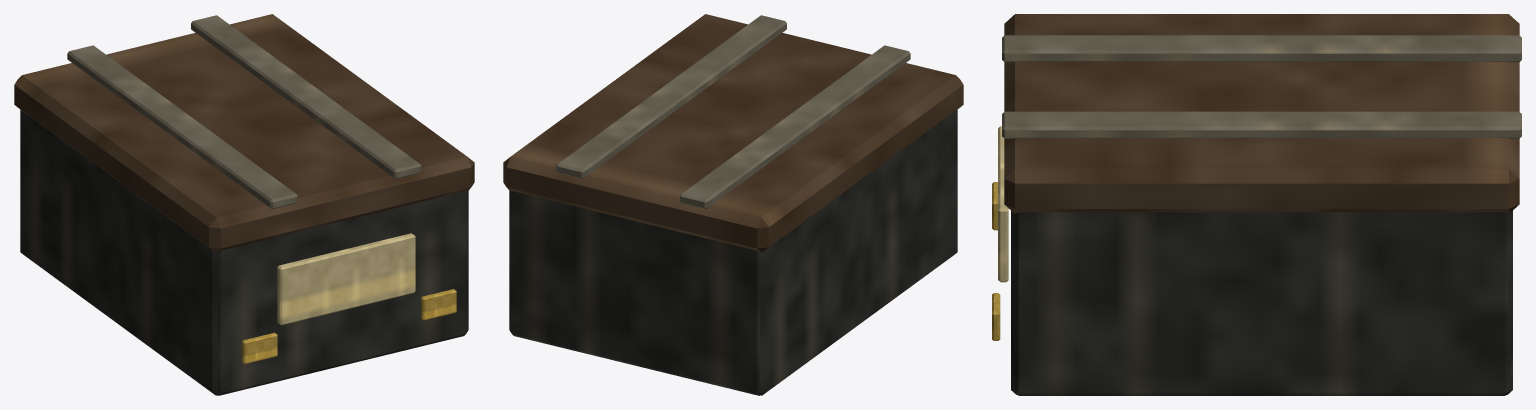
Rendered from SH_POC_RuggedCrate.fbx.
3 views of the same model, side by side, from view 1: azimuth 30°, elevation 25°; view 2: azimuth 150°, elevation 25°; view 3: azimuth 270°, elevation 25° (orthographic). The views are drawn at different scales.
Parts seen in each view (by area): view 1: SH_POC_RuggedCrate; view 2: SH_POC_RuggedCrate; view 3: SH_POC_RuggedCrate.
Boxes of the visible parts, box(x1,y1,x2,y2) form: SH_POC_RuggedCrate: box(14, 14, 474, 395); SH_POC_RuggedCrate: box(503, 14, 963, 395); SH_POC_RuggedCrate: box(992, 14, 1521, 395).
Size of the model in its own units: 0.43 by 0.2905 by 0.586.
1 material, 1 textured.
